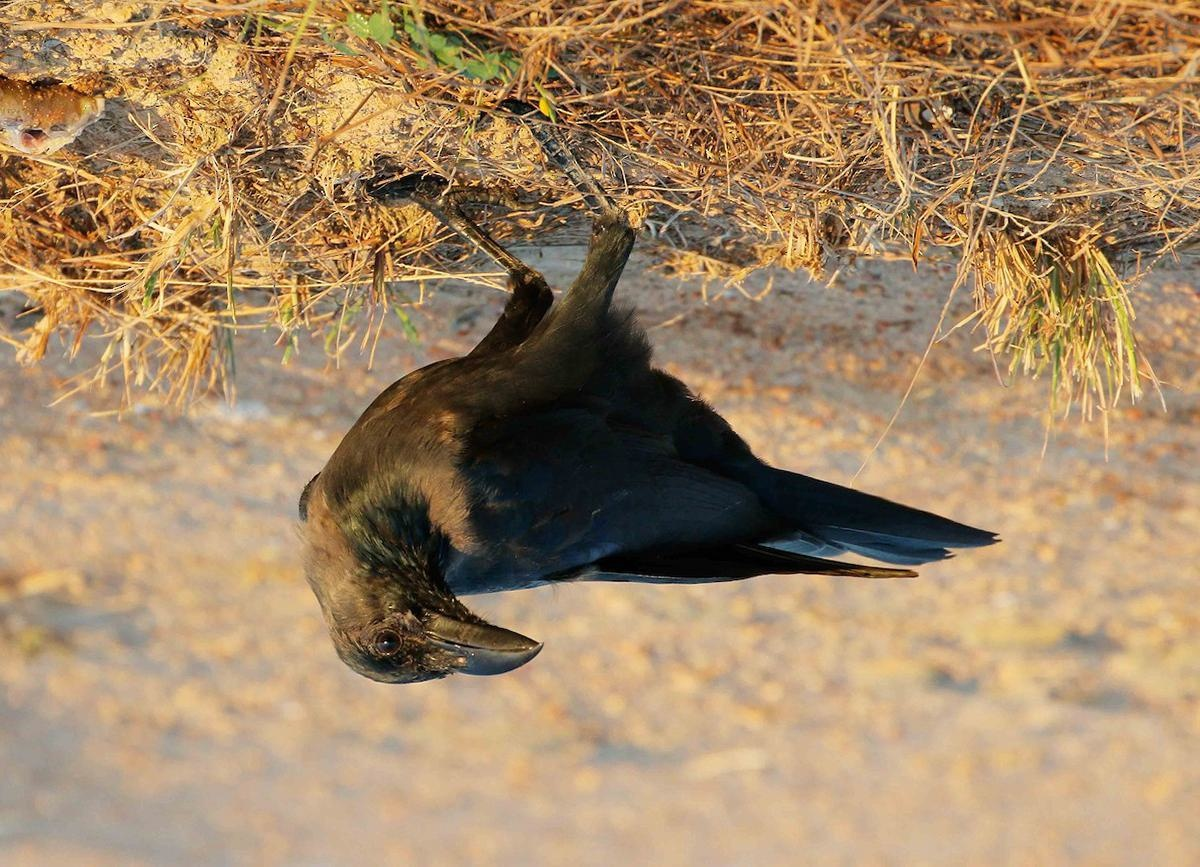crow: (288, 261, 985, 710)
